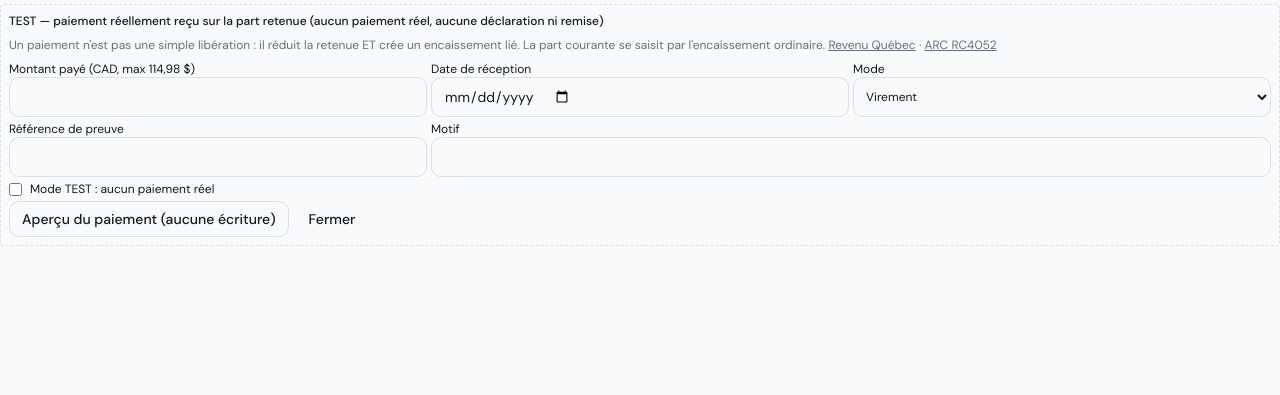
Scenario: FIN-09C2B2A — écran simulé › écrit + réponse perdue → demande figée; remontage + nouvelle révision : rejeu exact (clé/p/rév/hash identiques), un seul paiement
Earlier steps of the test are not shown.
Later steps or results of the test are not shown.
In the field labelled "Montant payé": coordinates (218, 97) [9, 77, 427, 117], type "4,48"
In the date field labelled "Date de réception": coordinates (640, 97) [431, 77, 849, 117], type "2026-09-05"
In the field labelled "Référence de preuve": coordinates (218, 157) [9, 137, 427, 177], type "VIR-1"
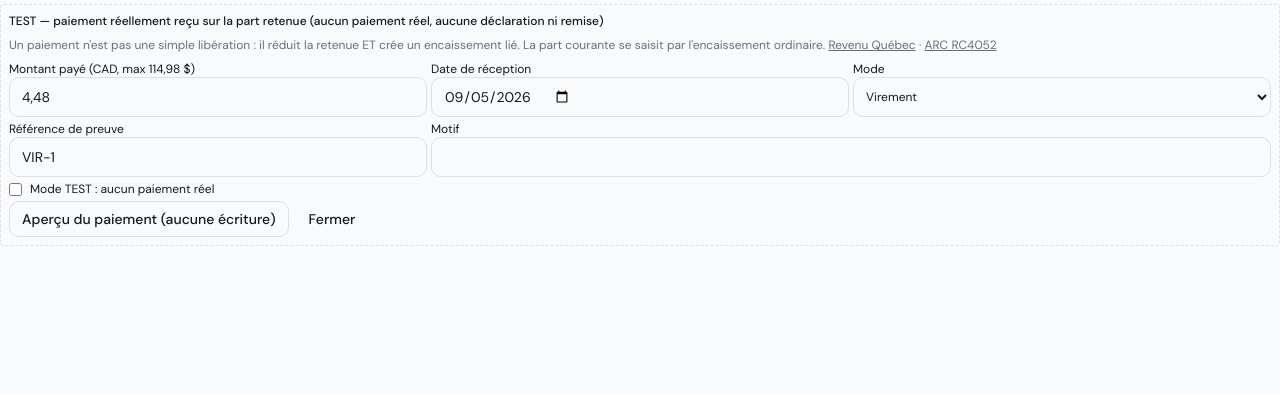
In the field named "Motif du paiement": coordinates (851, 157) [431, 137, 1271, 177], type "Retenue"
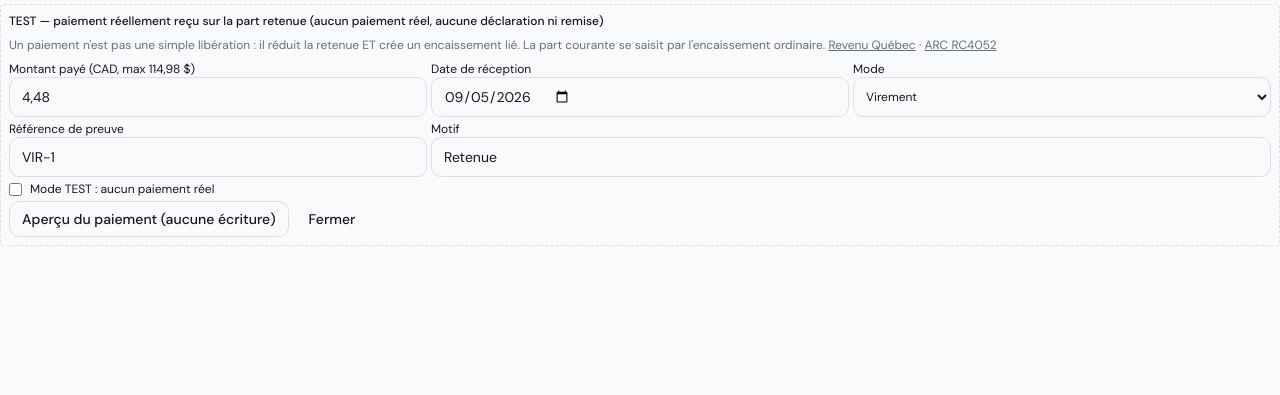
Click the checkbox labelled "Mode TEST : aucun paiement réel": coordinates (16, 189) [9, 182, 22, 196]
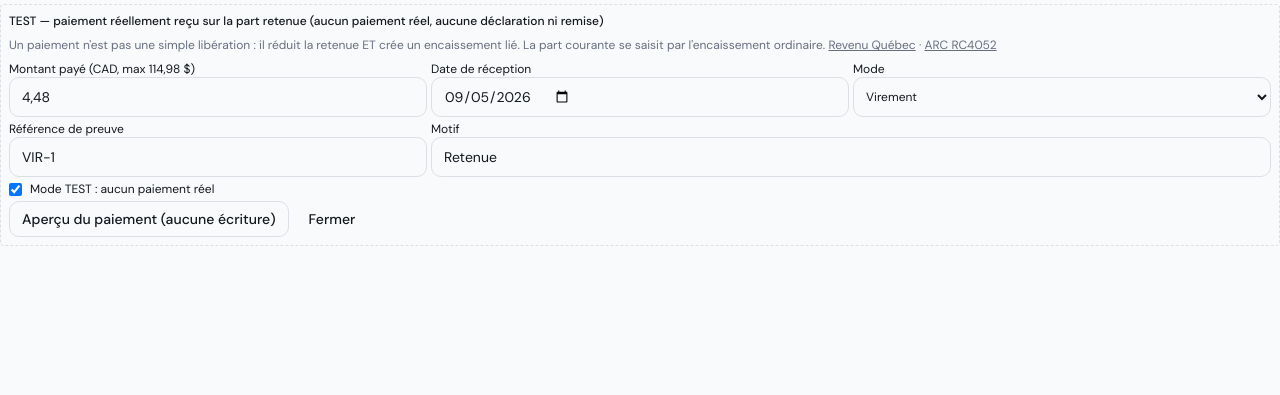
Click the button "Aperçu du paiement (aucune écriture)": coordinates (149, 219) [9, 201, 288, 237]
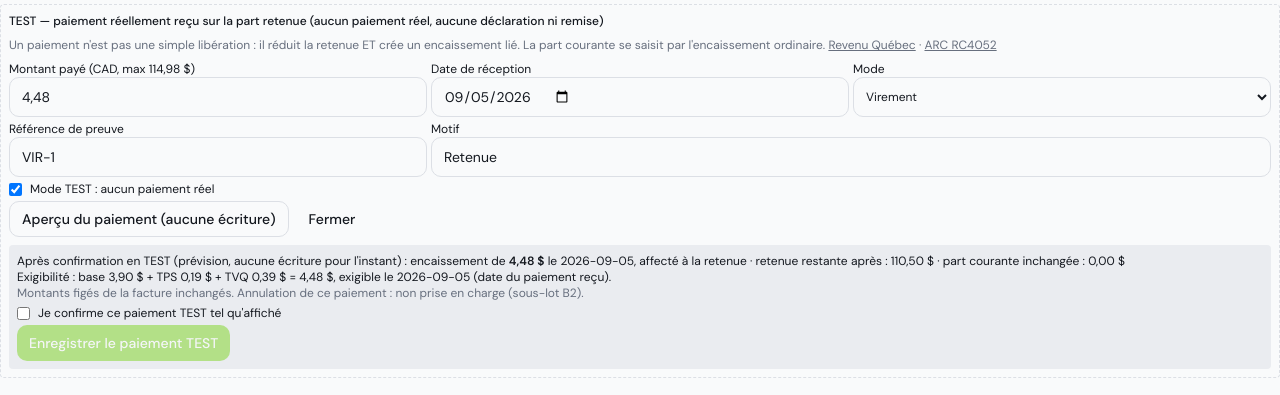
Now the element with test id "cpay-preview" is shown, box [9, 245, 1271, 369]
Click the checkbox labelled "Je confirme ce paiement TEST tel qu'affiché": coordinates (24, 313) [17, 306, 30, 320]
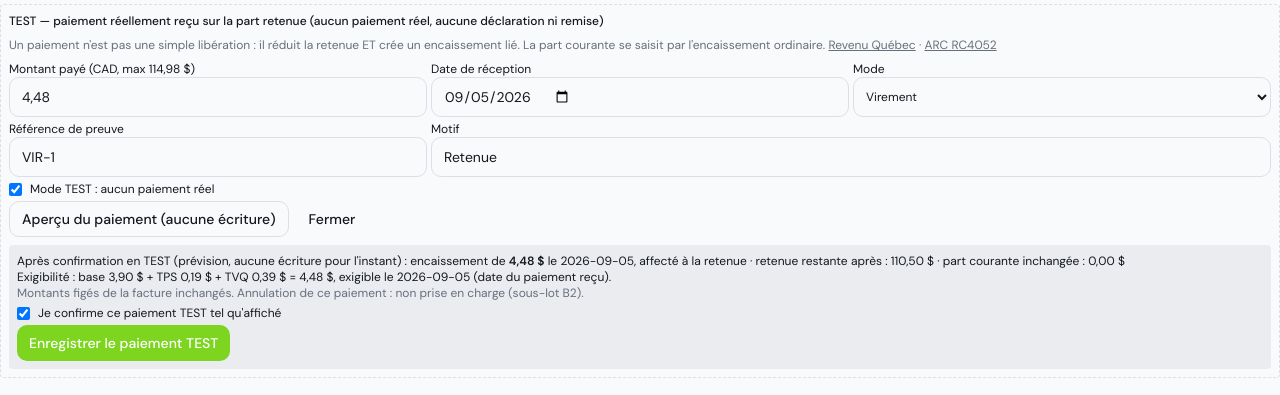
Click the button "Enregistrer le paiement TEST": coordinates (124, 343) [17, 325, 230, 361]
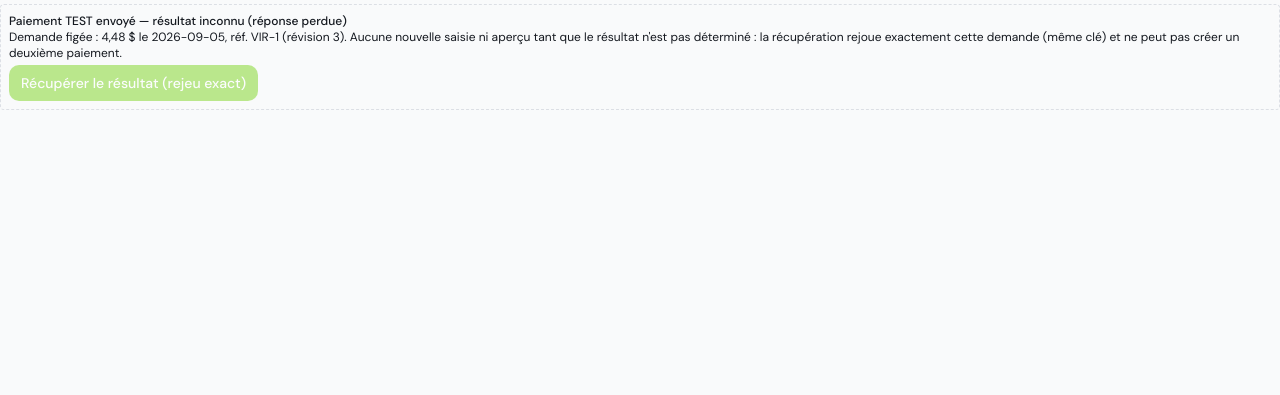
Now the element with test id "cpay-pending" is shown, box [0, 4, 1279, 110]
Now the label labelled "Montant payé" is gone
